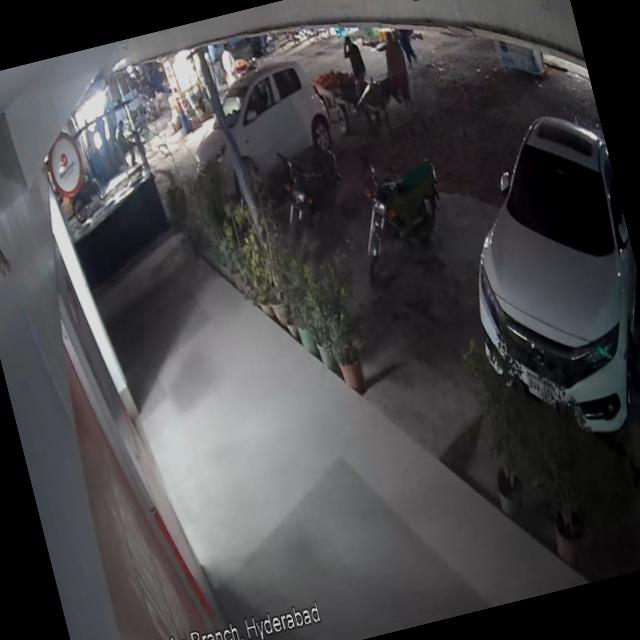Car: (429, 85, 640, 475), (177, 51, 360, 210)
Motorcycle: (326, 136, 461, 292), (258, 128, 354, 255)
